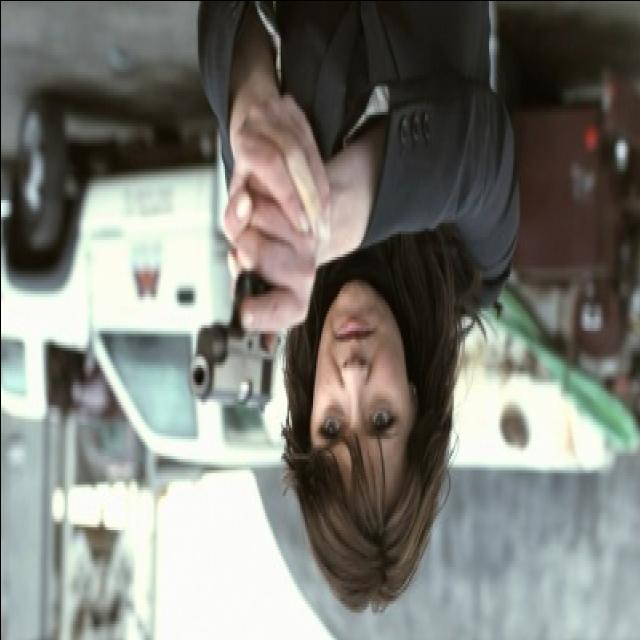weapons: (178, 200, 300, 424)
